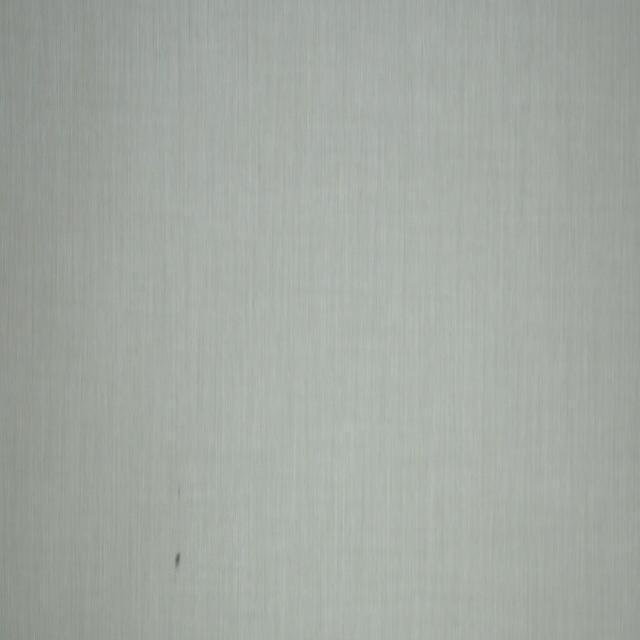dirty: (174, 554, 180, 570)
